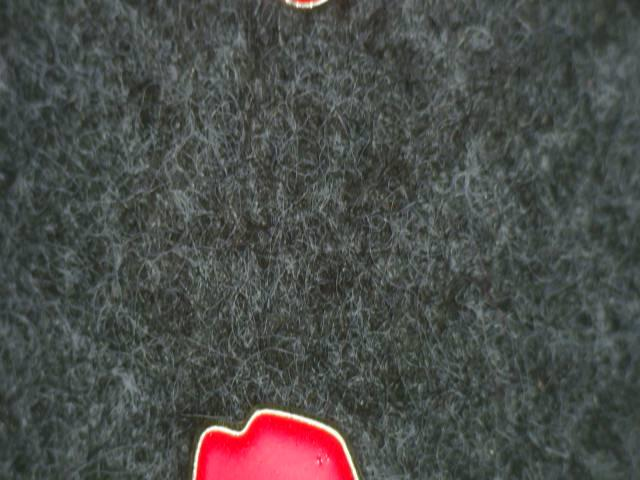Red-Hat: (167, 391, 401, 480)
